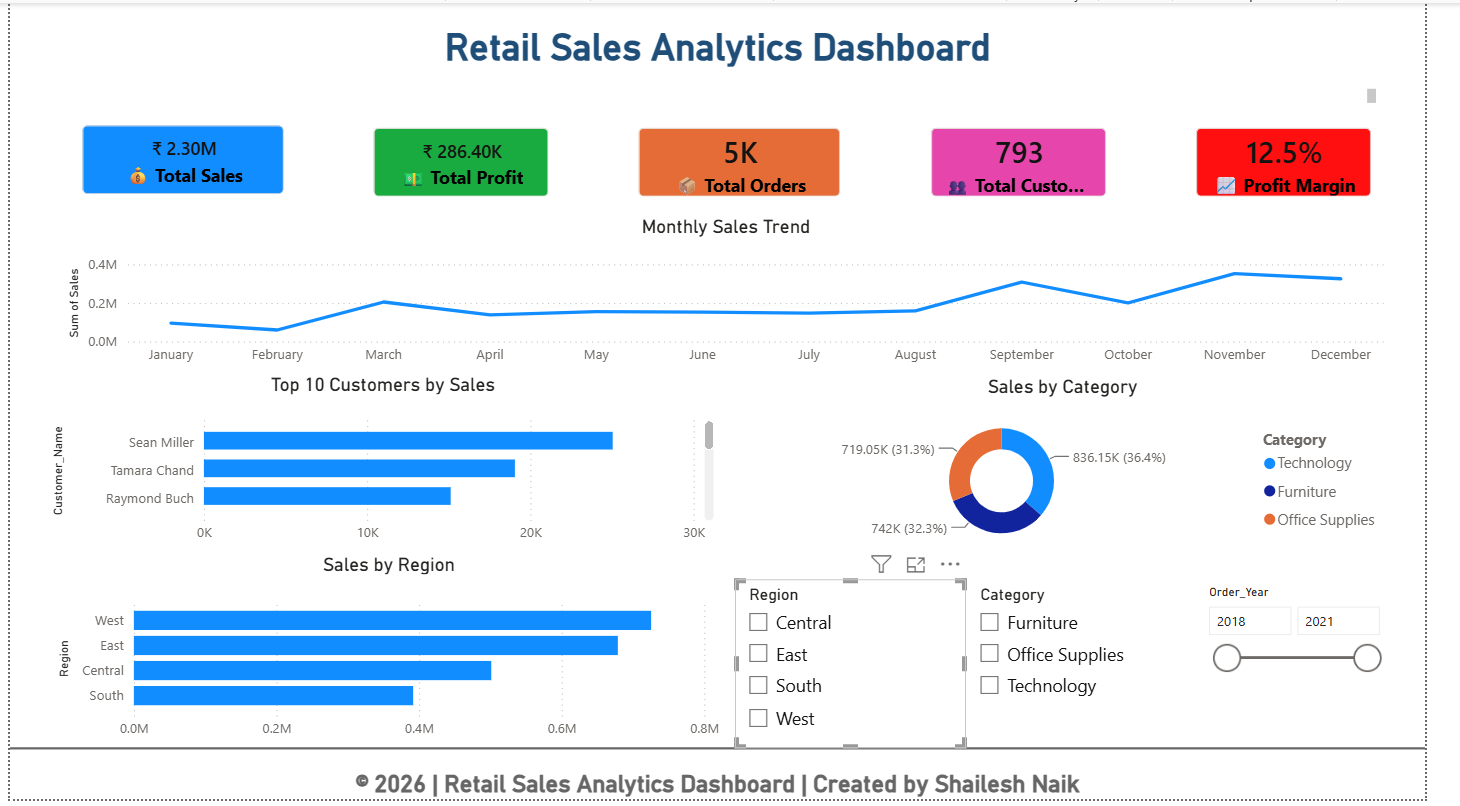

The dashboard page shown, as its layout file describes it:
{"tool":"powerbi","page":{"name":"Page 1","canvas":[1280,720],"ordinal":0},"visuals":[{"type":"cardVisual","fields":{"Data":["Measure_Table.Total Sales"]},"box":[48.7,93.3,216,96],"z":0},{"type":"cardVisual","fields":{"Data":["Measure_Table.Total Profit"]},"box":[312,96,192,96],"z":1000},{"type":"cardVisual","fields":{"Data":["Measure_Table.Total Orders"]},"box":[552,96,216,96],"z":2000},{"type":"cardVisual","fields":{"Data":["Measure_Table.Total Customers"]},"box":[816,96,192,96],"z":3000},{"type":"cardVisual","fields":{"Data":["Measure_Table.Profit Margin %"]},"box":[1056,96,192,96],"z":4000},{"type":"clusteredBarChart","title":"Sales by Region","fields":{"Category":["Cleaned_Superstore.Region"],"Y":["Sum(Cleaned_Superstore.Sales)"]},"box":[38.6,497.1,608.8,176.5],"z":5000},{"type":"lineChart","title":"Monthly Sales Trend","fields":{"Category":["Cleaned_Superstore.Order_Date.Variation.Date Hierarchy.Month"],"Y":["Sum(Cleaned_Superstore.Sales)"]},"box":[48,192,1200,144],"z":6000},{"type":"donutChart","title":"Sales by Category","fields":{"Category":["Cleaned_Superstore.Category"],"Y":["Sum(Cleaned_Superstore.Sales)"]},"box":[655.4,336.8,592.5,160.3],"z":7000},{"type":"clusteredBarChart","title":"Top 10 Customers by Sales","fields":{"Category":["Cleaned_Superstore.Customer_Name"],"Y":["Sum(Cleaned_Superstore.Sales)"]},"box":[32.5,334.8,608.8,162.3],"z":8000},{"type":"slicer","fields":{"Values":["Cleaned_Superstore.Region"]},"box":[655.4,521.5,209,152.2],"z":9000},{"type":"slicer","fields":{"Values":["Cleaned_Superstore.Category"]},"box":[864.4,521.5,209,127.8],"z":10000},{"type":"slicer","fields":{"Values":["Cleaned_Superstore.Order_Year"]},"box":[1071.4,521.5,176.5,127.8],"z":11000},{"type":"textbox","title":"Retail Sales Analytics Dashboard","box":[39.4,0,1201.2,95.6],"z":12000},{"type":"textbox","title":"© 2026 | Retail Sales Analytics Dashboard | Created by Shailesh Naik","box":[0,673.7,1280.4,45],"z":13000},{"type":"shape","box":[0,627,1280.4,93.3],"z":14000}]}

Visuals, with their boxes in screenshot pixels (x1, y1, x2, y2), scaled from the page's 1280x720 canvas onto the 1460x806 screenshot:
cardVisual - Measure_Table.Total Sales: (x1=56, y1=104, x2=302, y2=212)
cardVisual - Measure_Table.Total Profit: (x1=356, y1=107, x2=575, y2=215)
cardVisual - Measure_Table.Total Orders: (x1=630, y1=107, x2=876, y2=215)
cardVisual - Measure_Table.Total Customers: (x1=931, y1=107, x2=1150, y2=215)
cardVisual - Measure_Table.Profit Margin %: (x1=1204, y1=107, x2=1424, y2=215)
"Sales by Region" clusteredBarChart: (x1=44, y1=556, x2=738, y2=754)
"Monthly Sales Trend" lineChart: (x1=55, y1=215, x2=1424, y2=376)
"Sales by Category" donutChart: (x1=748, y1=377, x2=1423, y2=556)
"Top 10 Customers by Sales" clusteredBarChart: (x1=37, y1=375, x2=731, y2=556)
slicer - Cleaned_Superstore.Region: (x1=748, y1=584, x2=986, y2=754)
slicer - Cleaned_Superstore.Category: (x1=986, y1=584, x2=1224, y2=727)
slicer - Cleaned_Superstore.Order_Year: (x1=1222, y1=584, x2=1423, y2=727)
"Retail Sales Analytics Dashboard" textbox: (x1=45, y1=0, x2=1415, y2=107)
"© 2026 | Retail Sales Analytics Dashboard | Created by Shailesh Naik" textbox: (x1=0, y1=754, x2=1459, y2=805)
shape: (x1=0, y1=702, x2=1459, y2=805)
